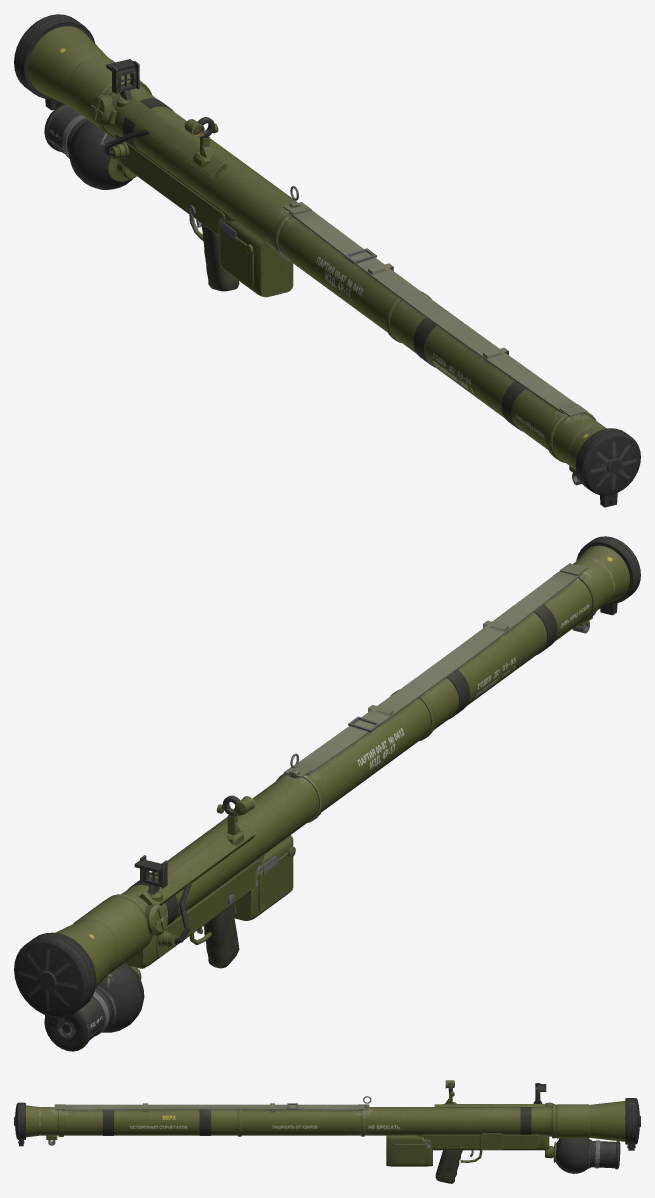
Rendered from mp_igla.glb.
3 renders of one model, top to bottom at view 1: azimuth 30°, elevation 25°; view 2: azimuth 150°, elevation 25°; view 3: azimuth 270°, elevation 25°, orthographic. The views are drawn at different scales.
Parts seen in each view (by area): view 1: tube, grip, strap, nip, cap_r, sight, cap_f; view 2: tube, grip, strap, cap_f, nip, sight, cap_r; view 3: tube, grip, nip, strap, cap_f, cap_r, sight.
Boxes of the visible parts, x1=… form: tube: x1=28, y1=26, x2=606, y2=485; grip: x1=104, y1=130, x2=293, y2=297; strap: x1=283, y1=202, x2=587, y2=416; nip: x1=44, y1=104, x2=136, y2=189; cap_r: x1=575, y1=428, x2=640, y2=507; sight: x1=90, y1=59, x2=218, y2=167; cap_f: x1=14, y1=14, x2=95, y2=110; tube: x1=55, y1=545, x2=629, y2=987; grip: x1=125, y1=835, x2=295, y2=968; strap: x1=283, y1=563, x2=587, y2=777; cap_f: x1=14, y1=932, x2=96, y2=1028; nip: x1=44, y1=963, x2=144, y2=1051; sight: x1=134, y1=795, x2=254, y2=935; cap_r: x1=576, y1=536, x2=640, y2=615; tube: x1=26, y1=1096, x2=625, y2=1145; grip: x1=386, y1=1133, x2=549, y2=1183; nip: x1=545, y1=1138, x2=620, y2=1173; strap: x1=54, y1=1103, x2=369, y2=1111; cap_f: x1=625, y1=1098, x2=640, y2=1150; cap_r: x1=14, y1=1102, x2=25, y2=1146; sight: x1=445, y1=1080, x2=554, y2=1106.
Bounding box in the file's own units: 0.1399 × 0.2932 × 1.75.
Materials: 1 (1 with a texture image).
